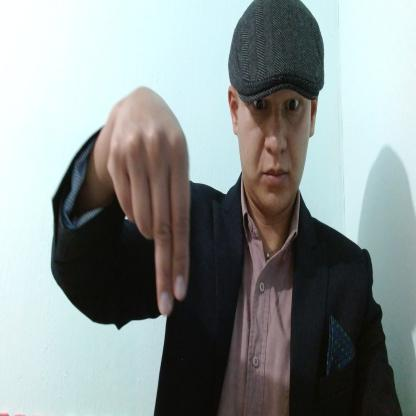N: (104, 87, 190, 315)
